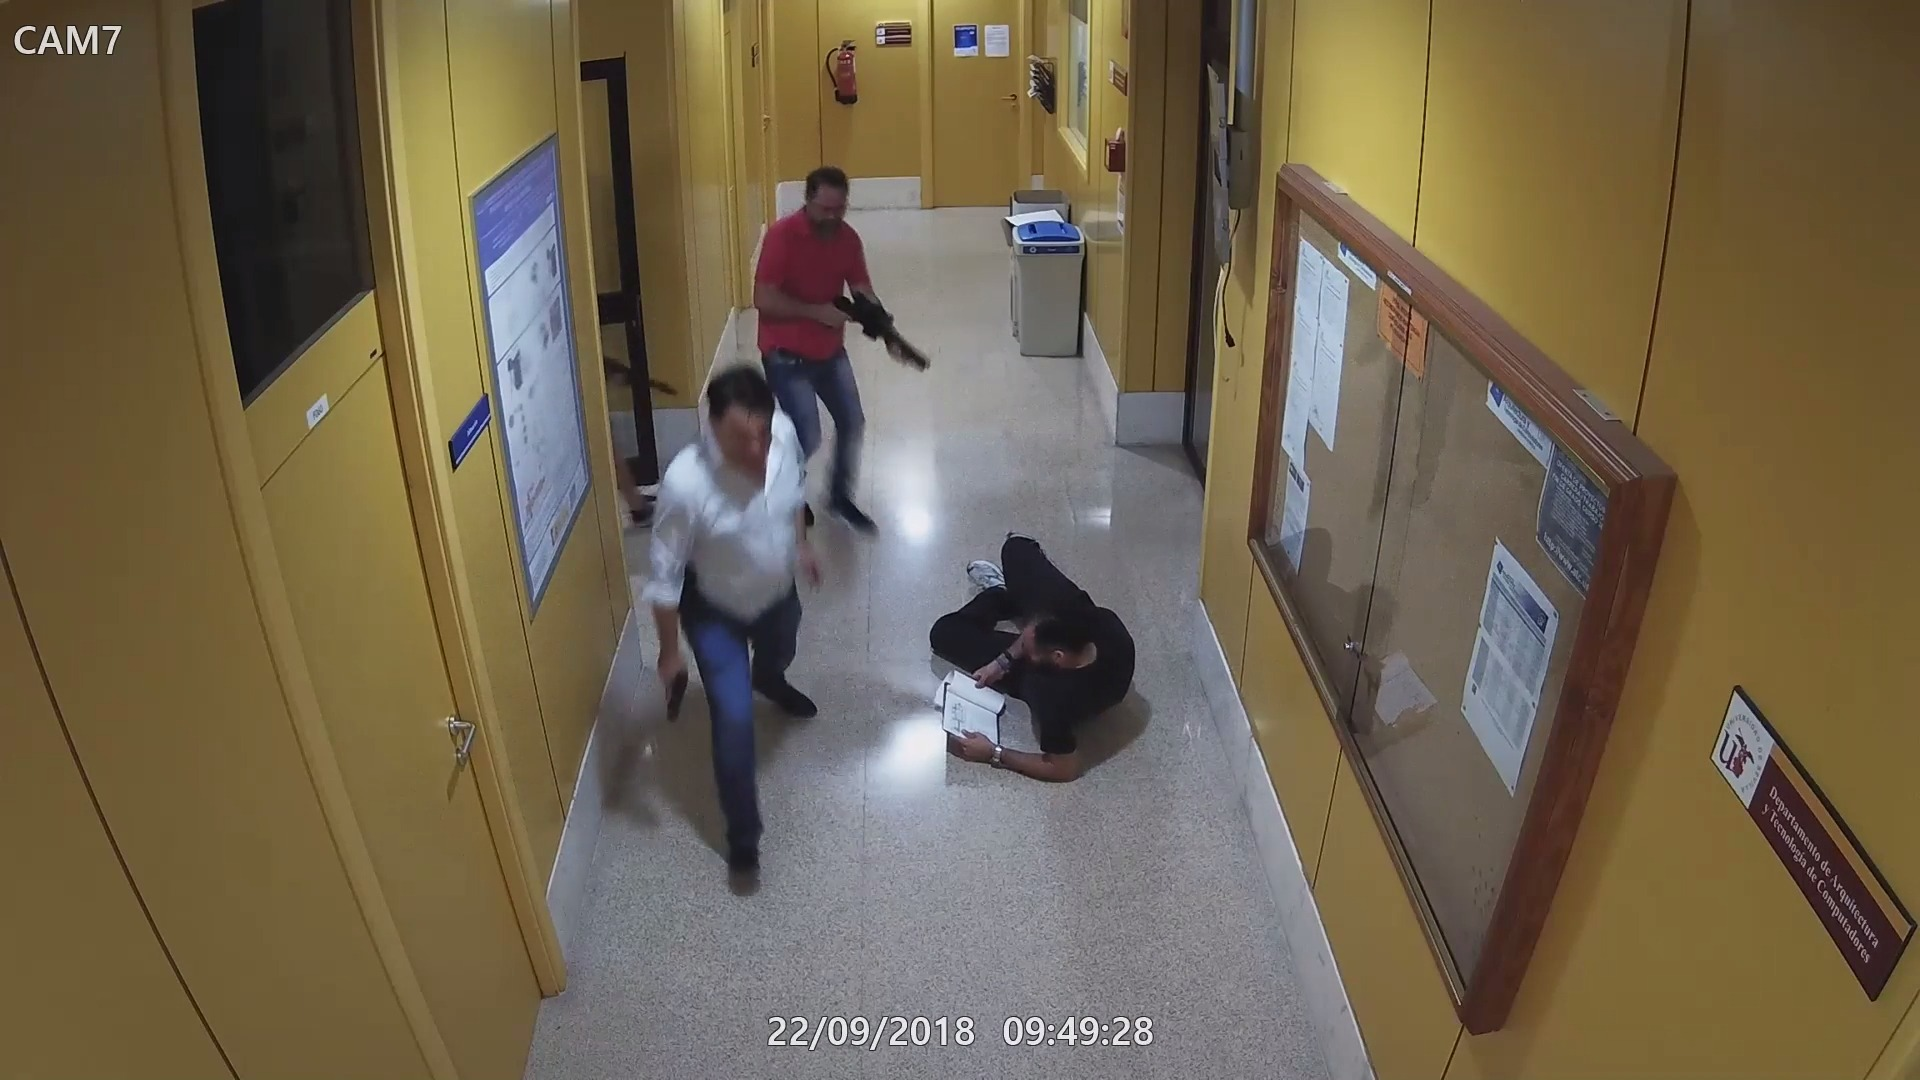Handgun: (665, 670, 688, 721)
Short_rifle: (832, 291, 936, 375), (599, 351, 684, 400)
